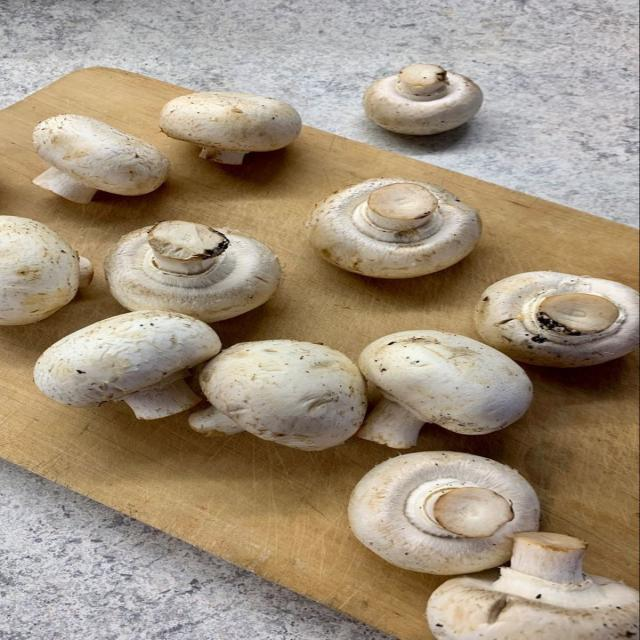champignon mushrooms: (349, 452, 539, 574), (427, 533, 639, 639), (358, 331, 532, 448), (34, 311, 220, 419), (190, 340, 366, 450), (105, 221, 280, 322), (307, 178, 480, 278), (475, 271, 639, 367), (33, 115, 170, 203), (160, 92, 301, 164), (0, 216, 92, 325), (364, 64, 482, 134)
